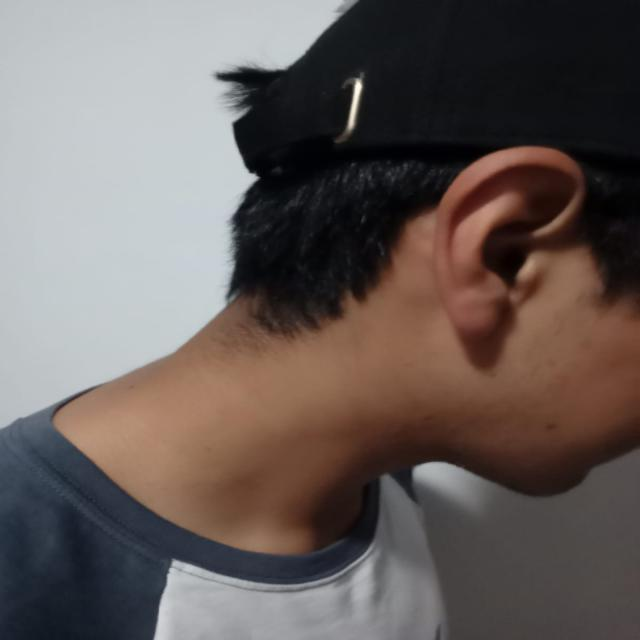ear: (432, 146, 585, 366)
